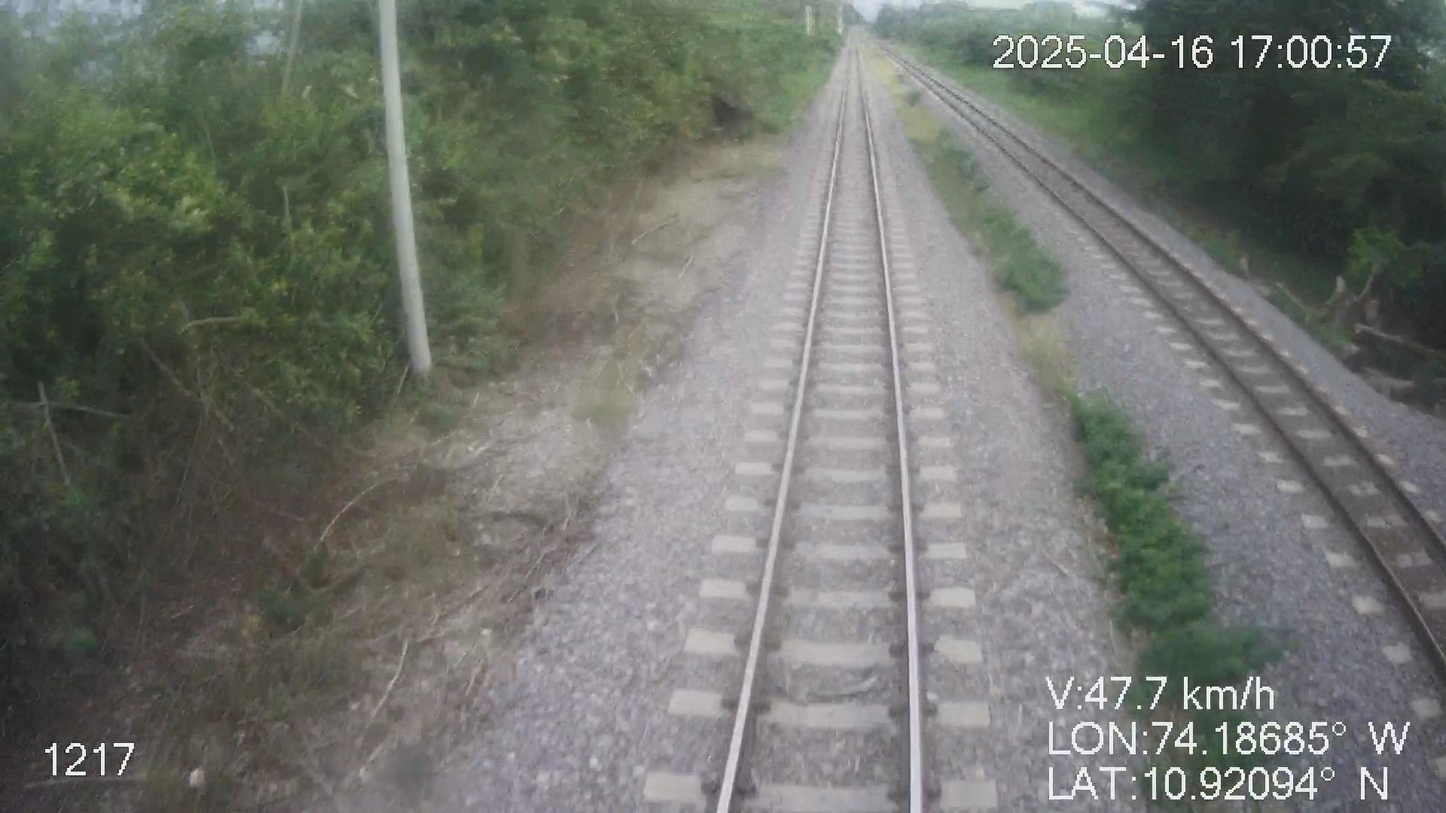Pasto: (0, 0, 844, 812), (852, 0, 1445, 428)
